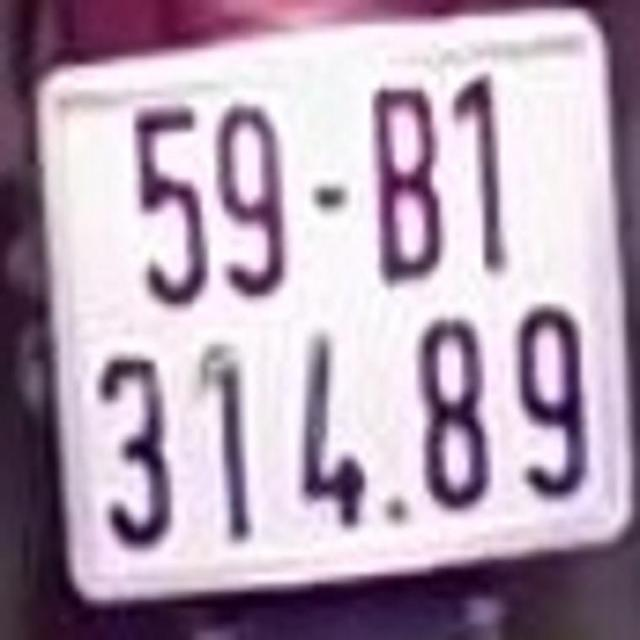1: (450, 63, 514, 280), (190, 338, 253, 537)
3: (92, 351, 176, 552)
4: (284, 321, 374, 529)
5: (128, 99, 213, 311)
8: (406, 310, 500, 516)
9: (508, 298, 592, 504), (214, 102, 286, 304)
B: (366, 82, 446, 288)
